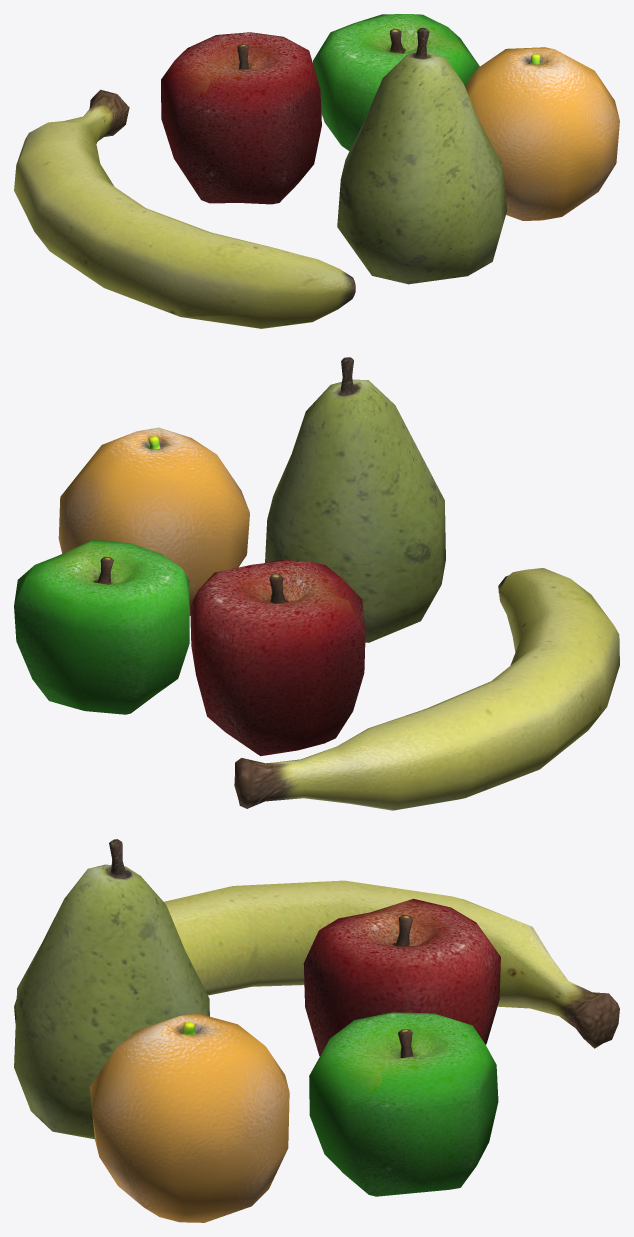
File: SuperLowPolyFruits.fbx
The picture shows the model from 3 angles, top to bottom: view 1: azimuth 30°, elevation 25°; view 2: azimuth 150°, elevation 25°; view 3: azimuth 270°, elevation 25°; orthographic projection. The views are drawn at different scales.
Visible parts, largest first — view 1: Banana1, Pear1, RedAple1, Orange1, GreenAple1; view 2: Banana1, Pear1, RedAple1, GreenAple1, Orange1; view 3: Orange1, Pear1, GreenAple1, Banana1, RedAple1.
Part boxes in pixels (<box>): Banana1: <box>14,89,355,328</box>; Pear1: <box>337,27,507,284</box>; RedAple1: <box>161,32,321,204</box>; Orange1: <box>465,47,619,220</box>; GreenAple1: <box>313,14,479,151</box>; Banana1: <box>234,568,619,810</box>; Pear1: <box>265,357,445,642</box>; RedAple1: <box>190,559,365,756</box>; GreenAple1: <box>14,539,189,714</box>; Orange1: <box>58,427,249,615</box>; Orange1: <box>89,1013,289,1222</box>; Pear1: <box>14,839,209,1139</box>; GreenAple1: <box>309,1012,498,1196</box>; Banana1: <box>14,880,619,1048</box>; RedAple1: <box>303,898,500,1056</box>.
Bounding box in the file's own units: 18.9 × 8.62 × 16.58.
